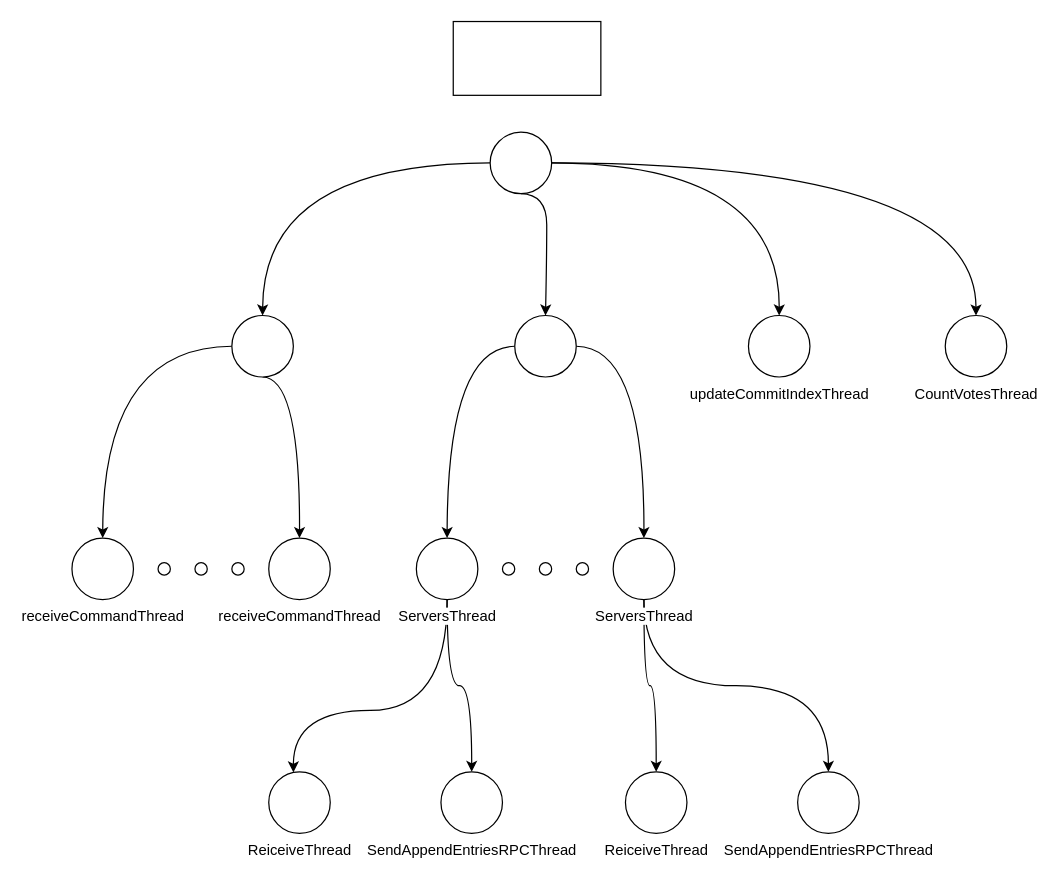
Some shapes in this 1058 by 881 pixel diagram are drawn without their labels. Each missing label, with the centre of its shape:
"acceptClientsThreads" goes at point 262,345.
"acceptServersThread" goes at point 545,345.
"MainThread" goes at point 520,162.
"ServerRaft" goes at point 526,57.
